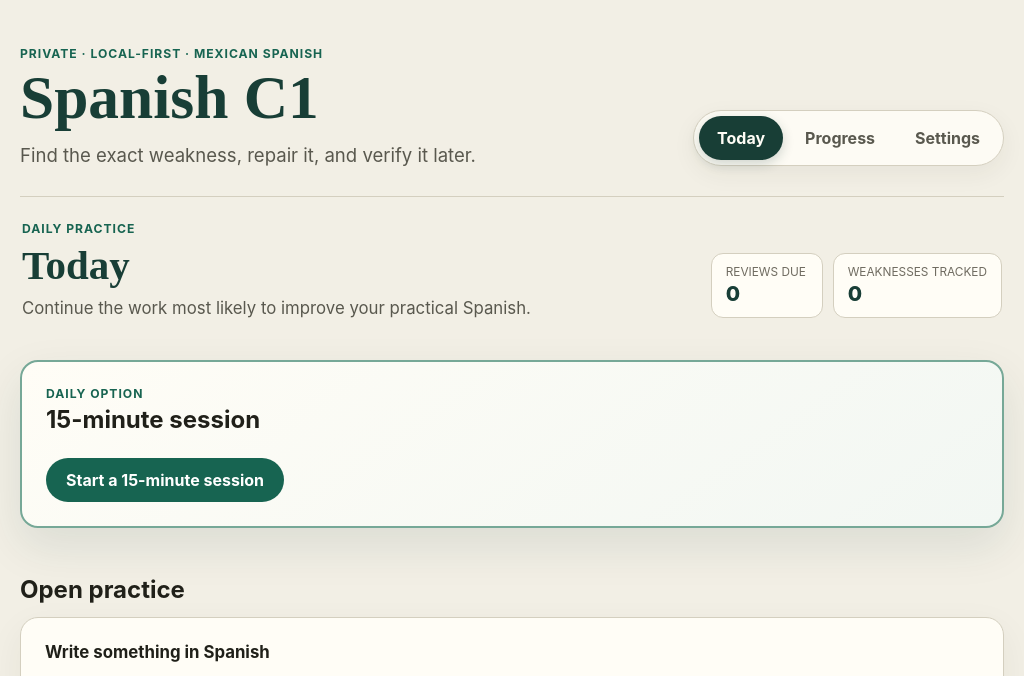
Test: 15-minute desktop session UI › shows checkpoint evidence, uncertainty, and trends without a score claim
Click the button "Progress".
click(840, 138)  # box x1=787 y1=116 x2=893 y2=160
(page scrolled)
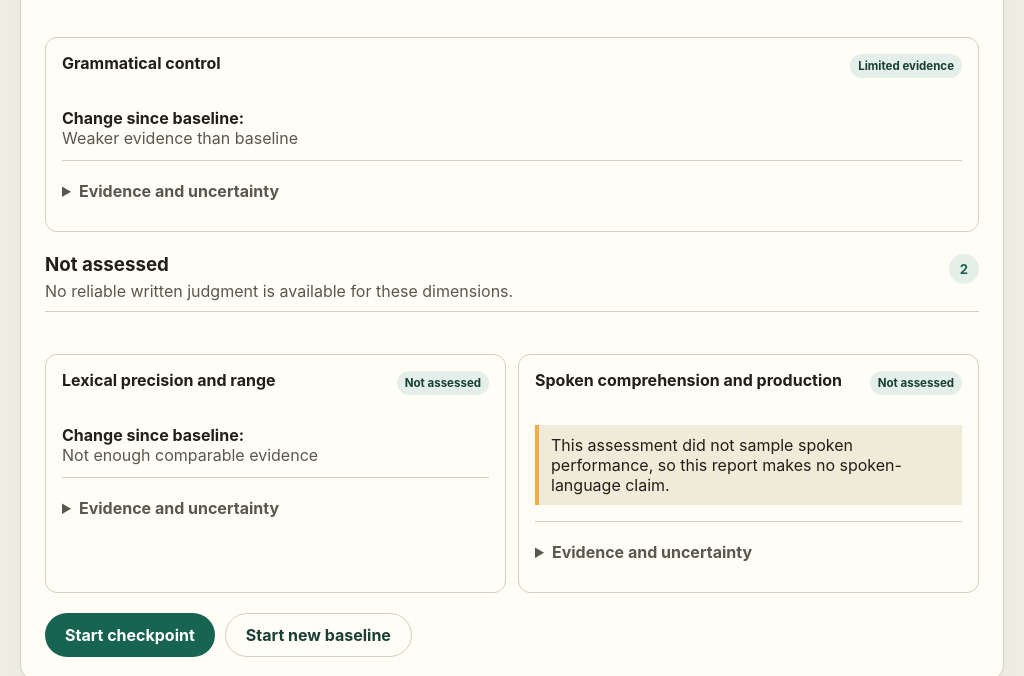
Expected: the heading "Not assessed" is shown, x1=45 y1=253 x2=169 y2=276
Expected: the text "Weaker evidence than baseline" is shown, x1=62 y1=128 x2=298 y2=148
Expected: the heading "Spoken comprehension and production" is shown, x1=535 y1=371 x2=842 y2=390
